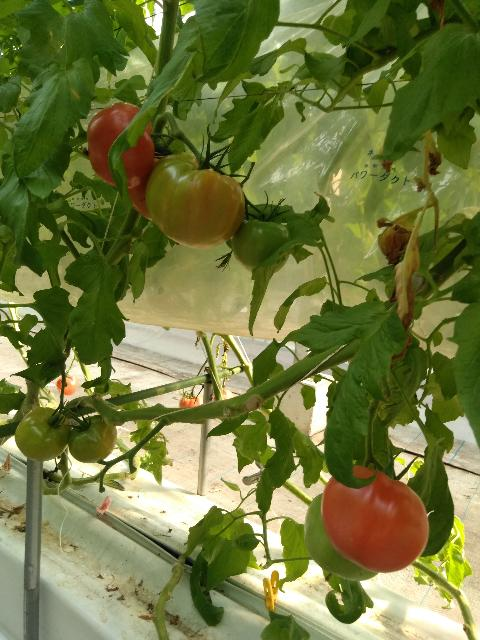b_fully_ripened: (322, 466, 429, 573), (87, 102, 154, 188)
b_green: (304, 492, 379, 581), (232, 219, 292, 276), (14, 406, 72, 462), (68, 415, 117, 464)
b_half_ripened: (146, 151, 246, 250)
